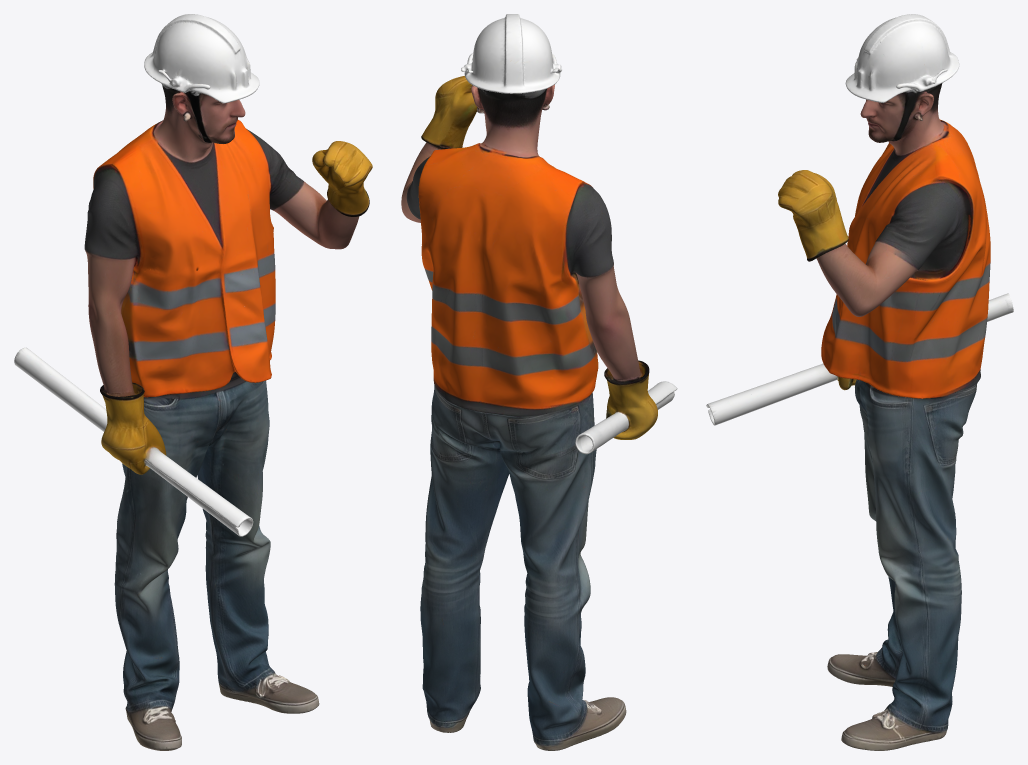
File: worker.glb
The picture shows the model from 3 angles, left to right: view 1: azimuth 30°, elevation 25°; view 2: azimuth 150°, elevation 25°; view 3: azimuth 270°, elevation 25°; orthographic projection. The views are drawn at different scales.
Parts seen in each view (by area): view 1: Object_5, Object_6, Object_7; view 2: Object_6, Object_5, Object_7; view 3: Object_6, Object_5, Object_7.
Part boxes in pixels (x1,y1,x2,y2): Object_5: (85, 17, 372, 750); Object_6: (14, 14, 310, 735); Object_7: (86, 71, 279, 694); Object_6: (403, 14, 633, 750); Object_5: (401, 14, 677, 741); Object_7: (472, 22, 628, 696); Object_6: (864, 14, 1013, 744); Object_5: (706, 14, 957, 750); Object_7: (867, 19, 916, 749).
Bounding box in the file's own units: 0.742 × 1.9 × 0.764.
1 material, 1 textured.
